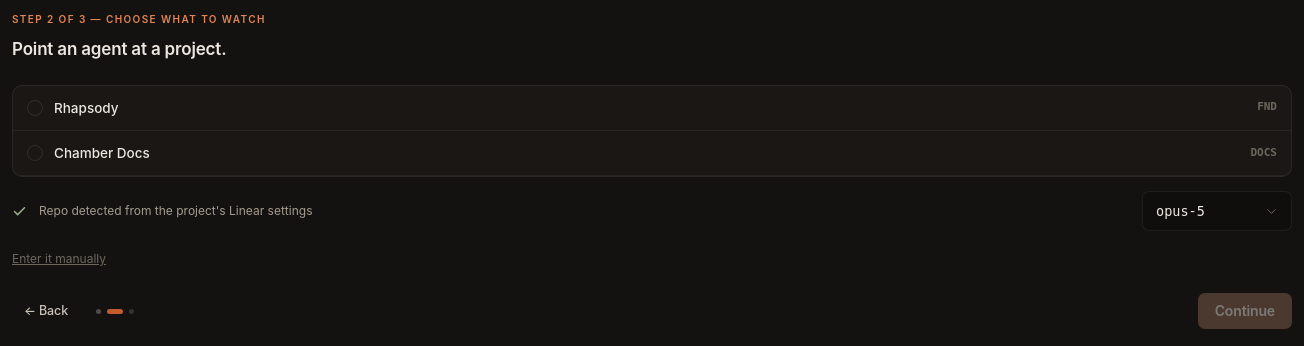
Scenario: Onboarding wizard › step 2 — Choose what to watch › disables Continue until a project radio is picked
Expected: the button "Continue" is disabled, [1198, 293, 1292, 329]
Click the radio button labelled "Rhapsody" at (86, 108), box [13, 86, 1291, 131]
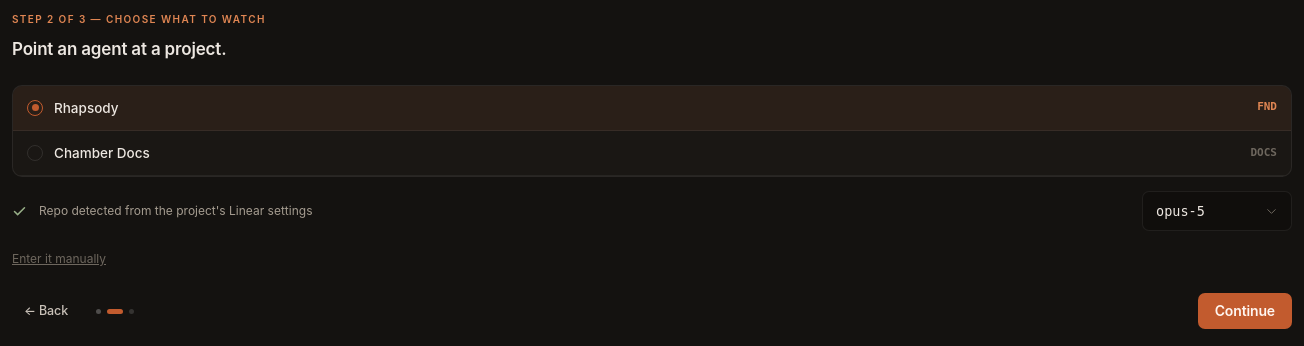
Now the button "Continue" is enabled, box [1198, 293, 1292, 329]
